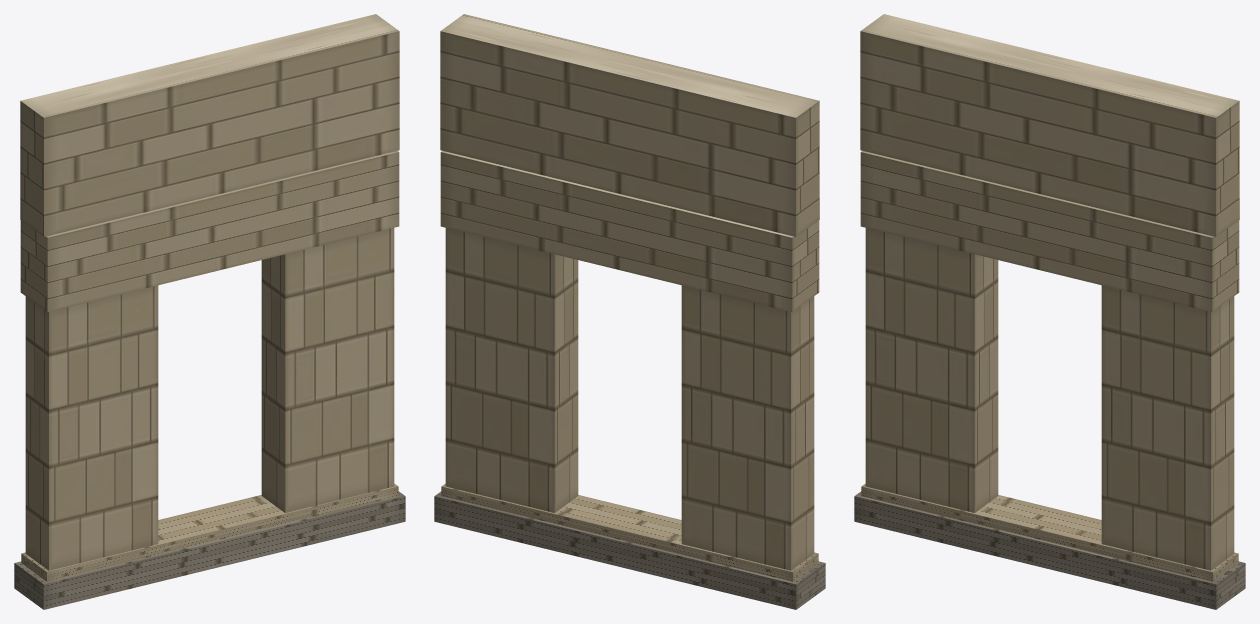
File: ae_duel_stone_door_frame_lod2.glb
The picture shows the model from 3 angles, left to right: view 1: azimuth 30°, elevation 25°; view 2: azimuth 150°, elevation 25°; view 3: azimuth 330°, elevation 25°; orthographic projection.
Visible parts, largest first — view 1: ae_duel_stone_door_frame_lod2; view 2: ae_duel_stone_door_frame_lod2; view 3: ae_duel_stone_door_frame_lod2.
Boxes of the visible parts, bbox=[...] form: ae_duel_stone_door_frame_lod2: bbox=[14, 14, 405, 609]; ae_duel_stone_door_frame_lod2: bbox=[434, 14, 825, 609]; ae_duel_stone_door_frame_lod2: bbox=[854, 14, 1245, 609].
Size of the model in its own units: 3.56 by 4.6 by 0.4998.
Materials: 1 (1 with a texture image).
